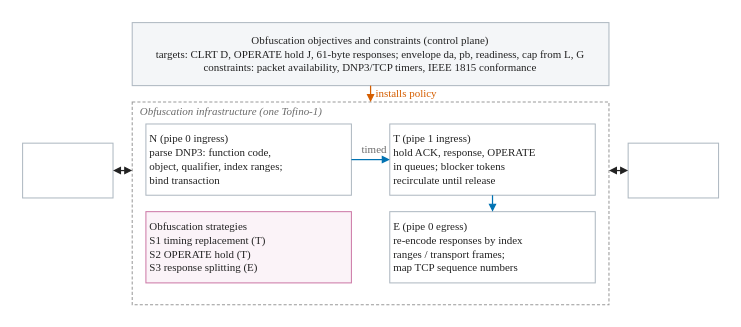
Some shapes in this 741 by 327 pixel diagram are drawn without their labels. The shapes that lost their labels are listed below. From the top down, each one's centre as x and y in pixels, then its label:
At point (67, 170): "SCADA master".
At point (672, 170): "Outstation (IED)".
